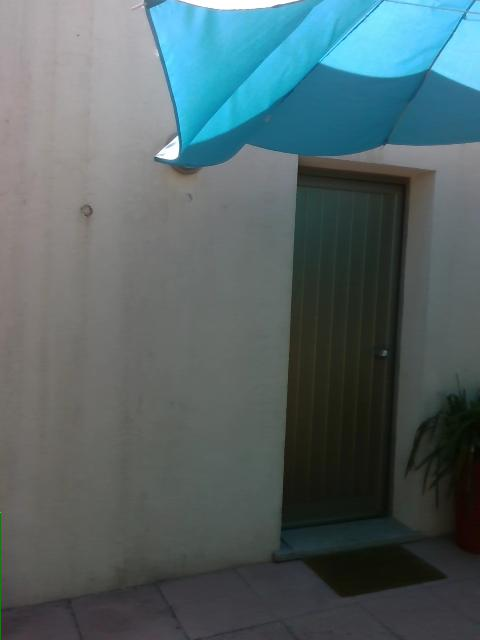door: (281, 152, 436, 549)
